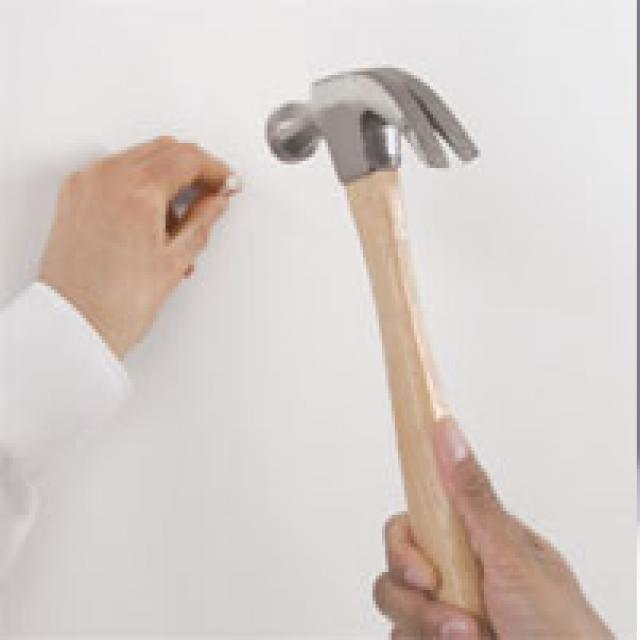hammer: (248, 50, 522, 640)
